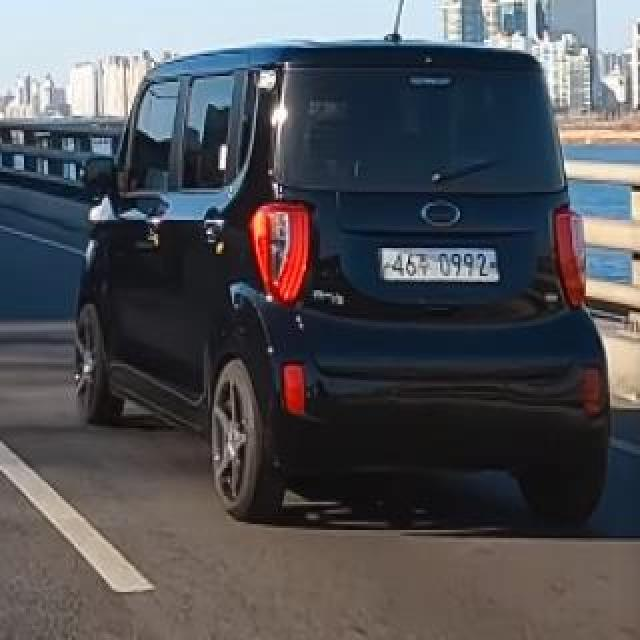car: (60, 28, 625, 550)
illegal_plate: (382, 242, 498, 290)
